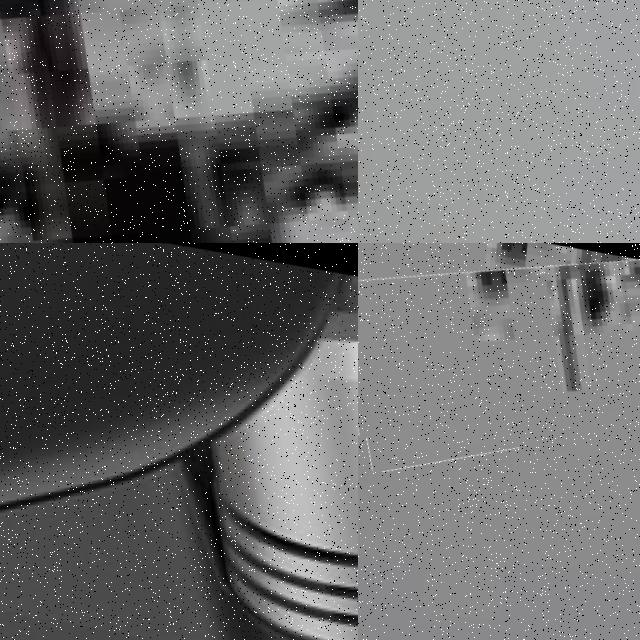0: (0, 0, 358, 243), (358, 243, 640, 475)
drone: (0, 243, 358, 640)
